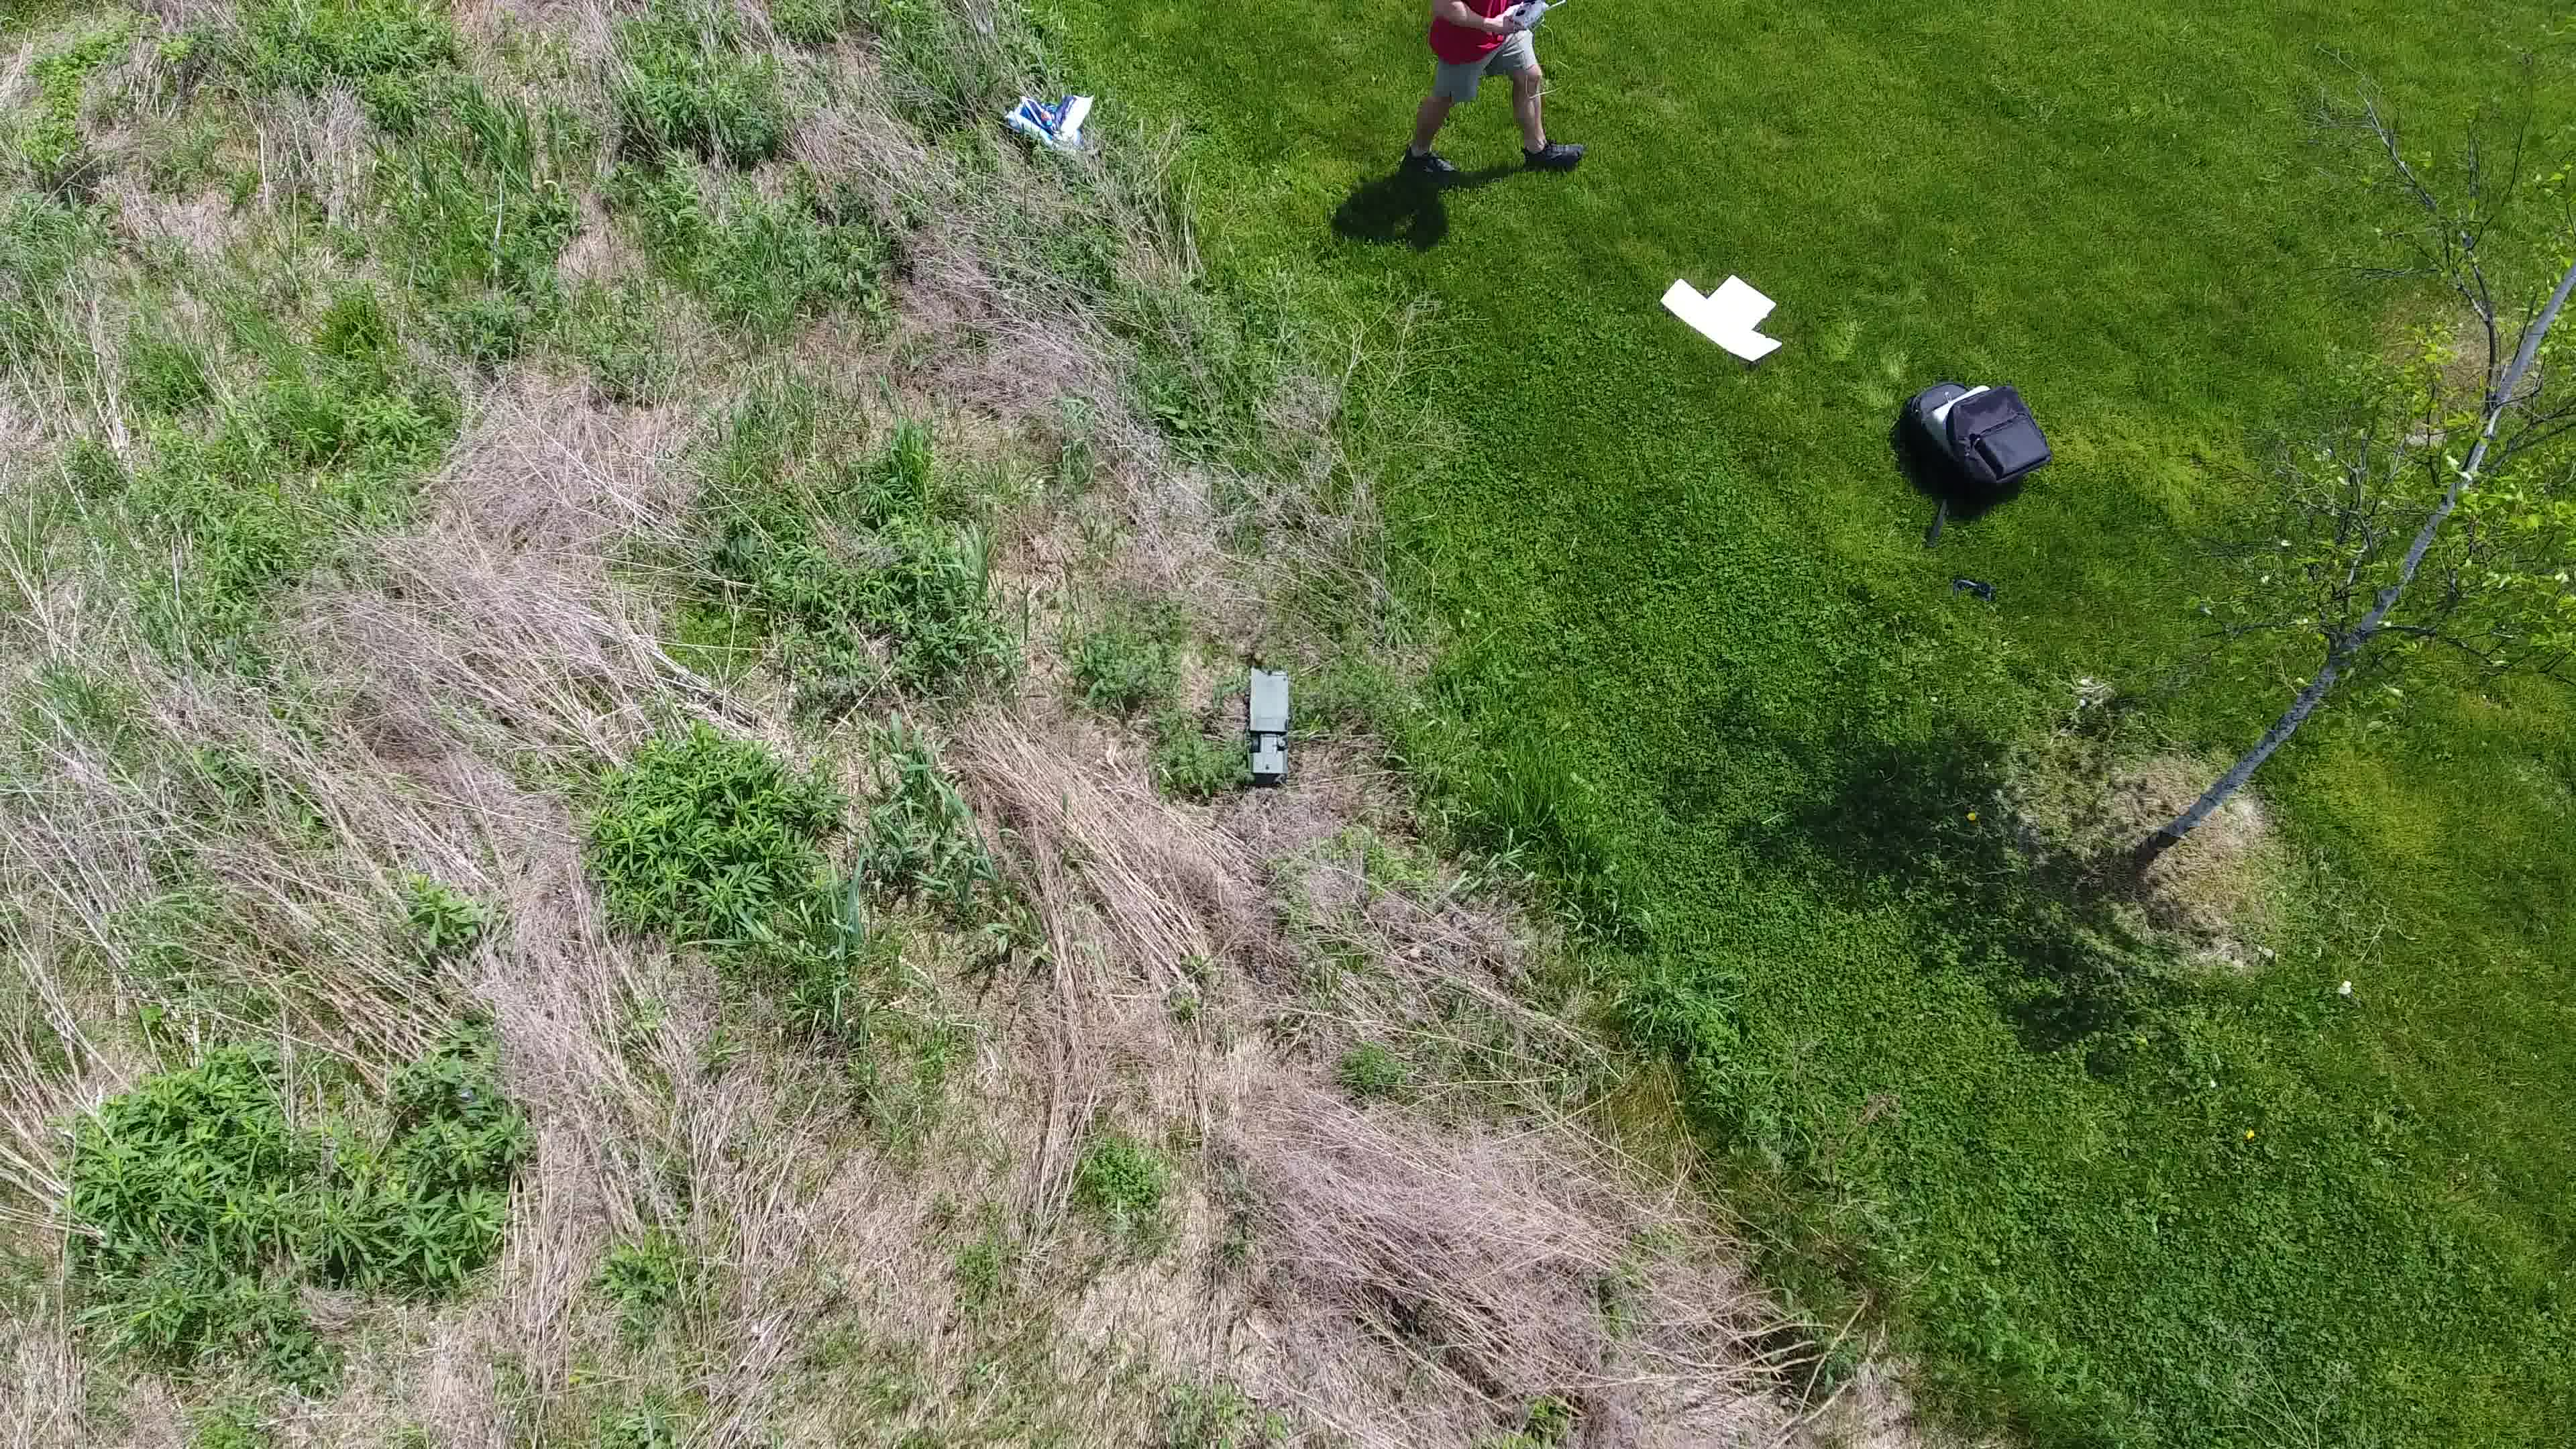transporter9: (1242, 663, 1297, 784)
